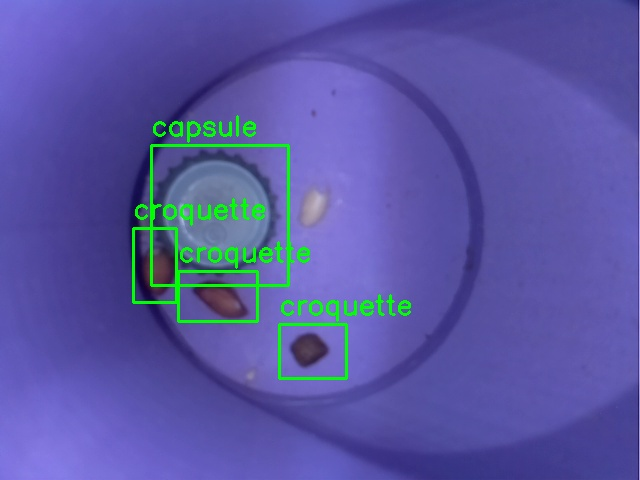capsule: (151, 145, 288, 285)
croquette: (178, 271, 257, 321), (279, 324, 346, 378), (133, 228, 176, 302)
